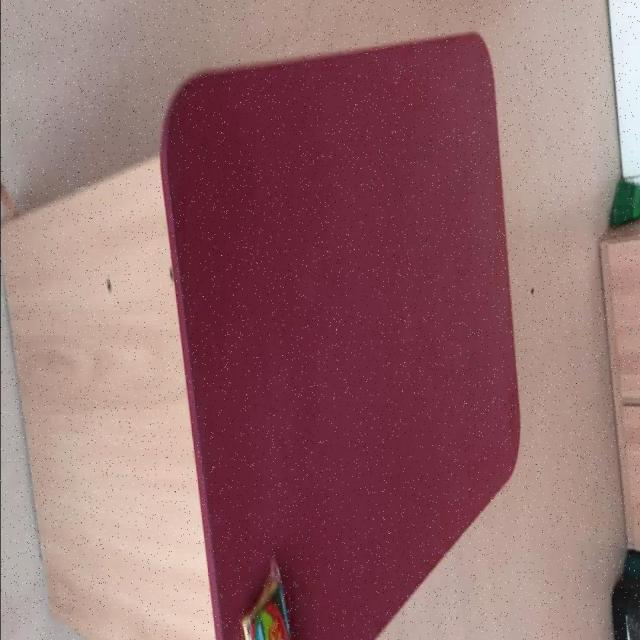Sponge: (0, 34, 522, 640), (240, 559, 295, 640), (610, 179, 640, 229)
